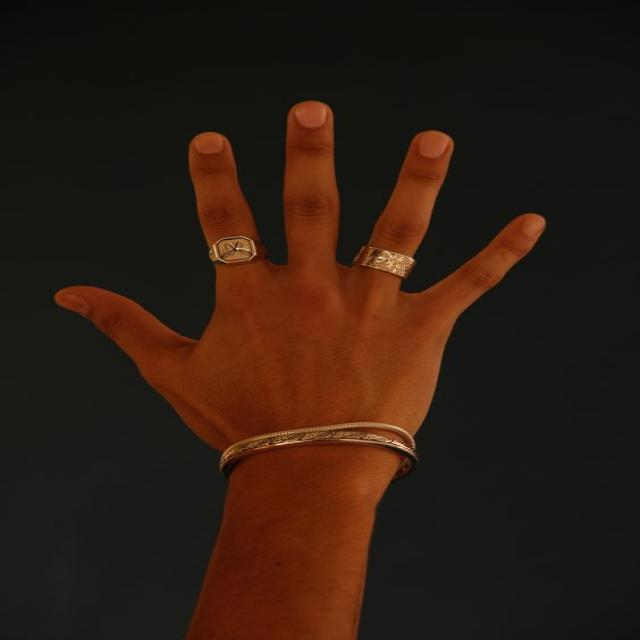Fingernail: (419, 132, 451, 159), (295, 104, 327, 129), (59, 294, 88, 317), (195, 135, 224, 154), (520, 218, 543, 239)
